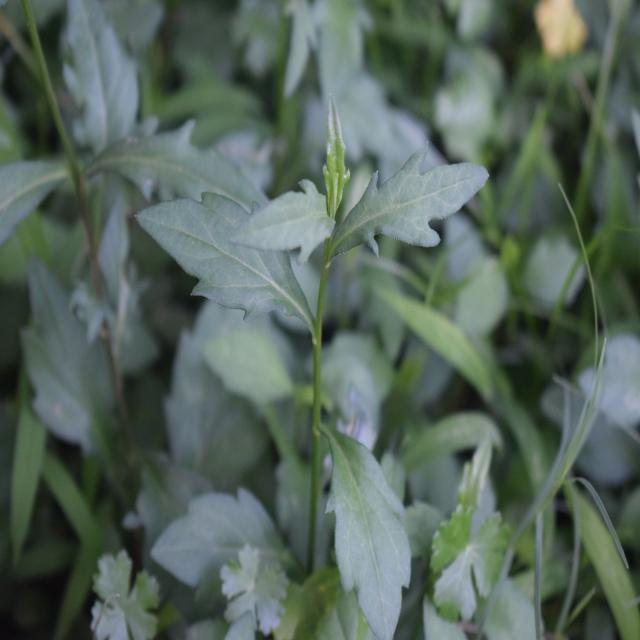Indian aster: (143, 90, 466, 600)
